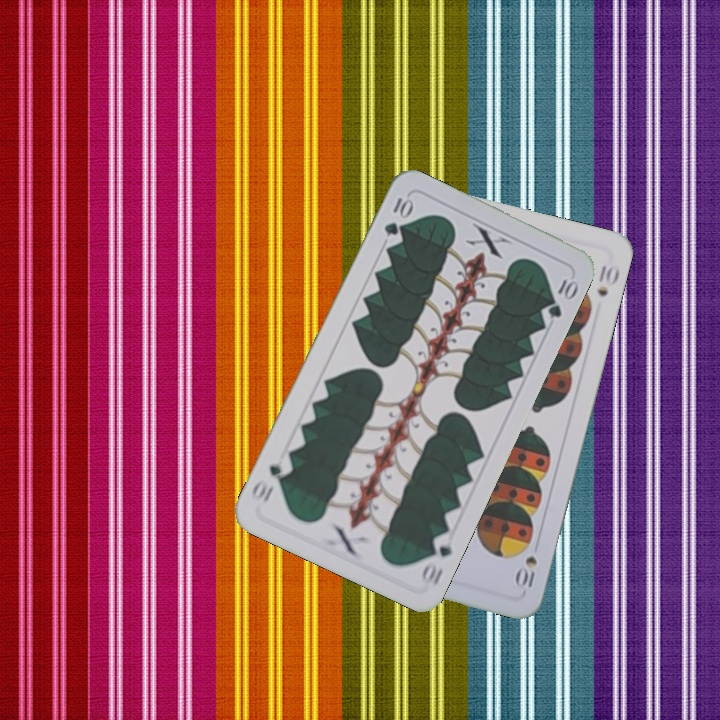G10: (416, 529, 456, 589), (380, 193, 415, 238)
S10: (512, 552, 540, 590)
